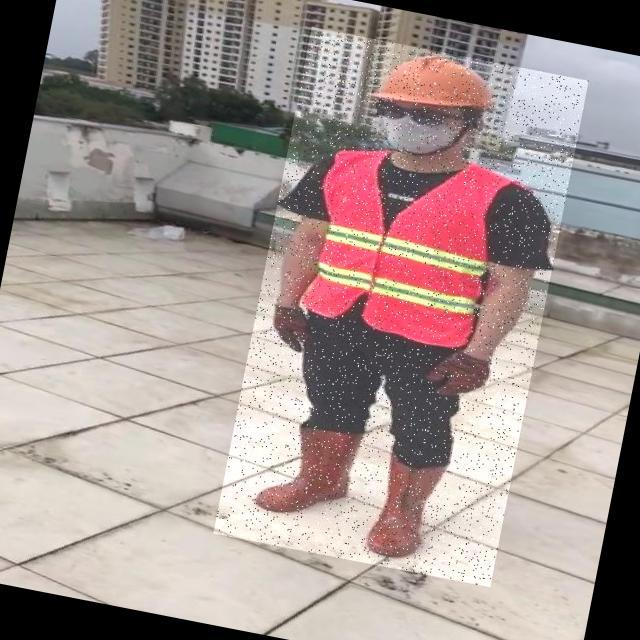Gloves: (424, 346, 494, 405), (264, 303, 315, 356)
Helmet: (369, 42, 497, 118)
Human: (214, 27, 589, 587)
Safety Boot: (255, 418, 363, 527), (360, 450, 445, 565)
Safety Vest: (295, 139, 510, 354)
